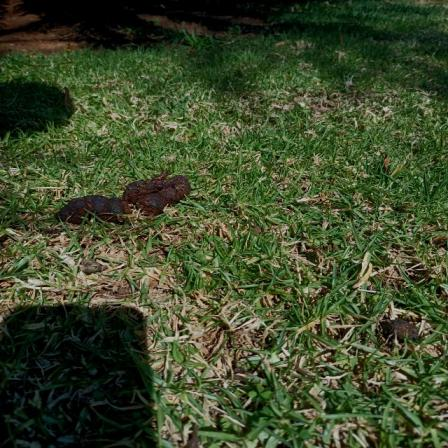dog-poop: (54, 168, 199, 231)
